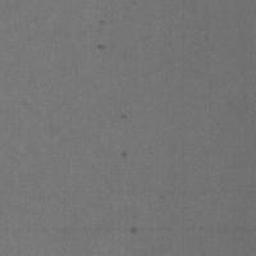Inclusion: (156, 193, 166, 202), (120, 151, 129, 159), (119, 114, 129, 120), (129, 227, 137, 234), (99, 19, 106, 26), (97, 44, 104, 50)
